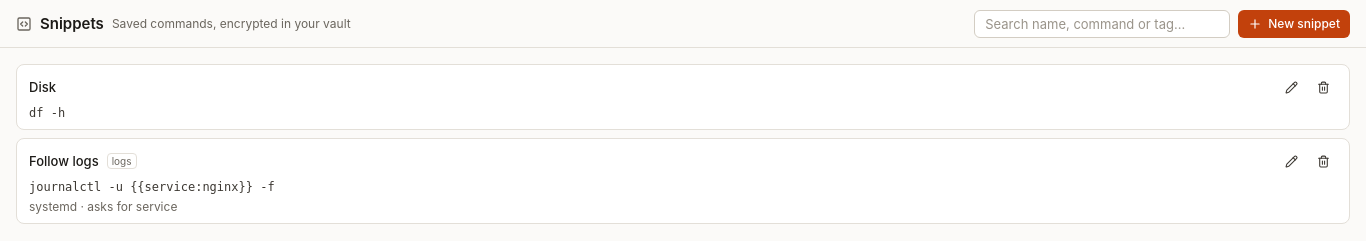
Test: SnippetsView › lists snippets with their variables and filters by any field
This screenshot has width=1366, height=241.
Expected: the list item "Follow logs" shows "systemd · asks for service", [16,138,1350,224]
Type "journal logs" into the search field named "Search snippets". click: (1102, 24)
box: [974,10,1230,38]
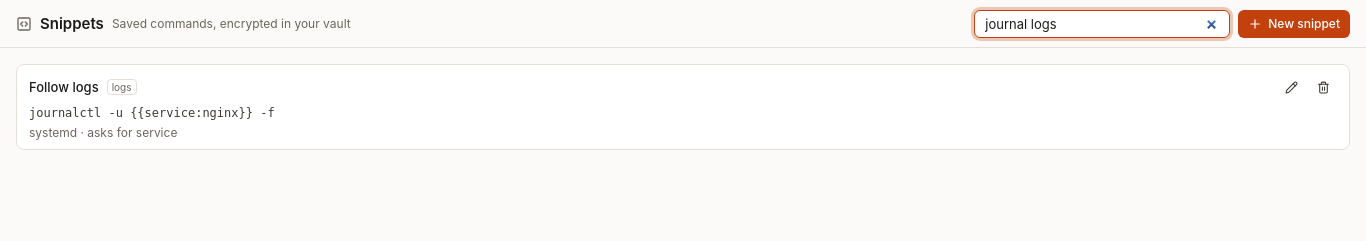
Now the text "Disk" is gone
Replace the text in the search field named "Search snippets" with "zzz". click: (1102, 24)
box: [974,10,1230,38]
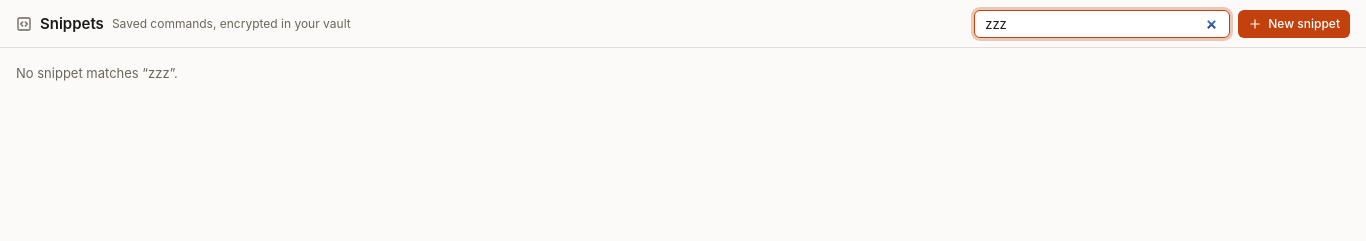
Now the text "No snippet matches “zzz”." is shown, box [16,65,178,81]
